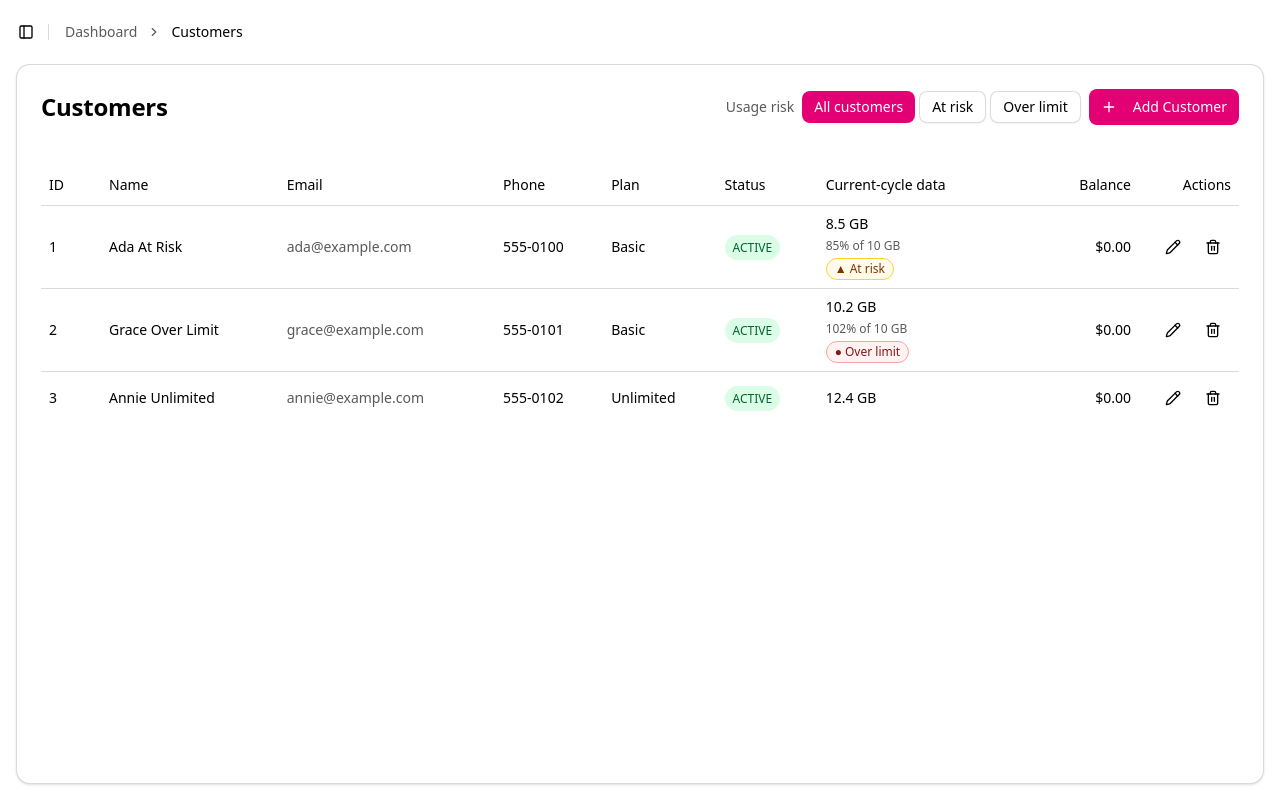
Test: CustomersPage usage-risk filter › filters by the semantic API state and restores all rows
Expected: the text "Ada At Risk" is shown, [101,205,279,288]
Expected: the text "Grace Over Limit" is shown, [101,288,279,371]
Click the button "Over limit": (1035, 107) [990,91,1081,123]
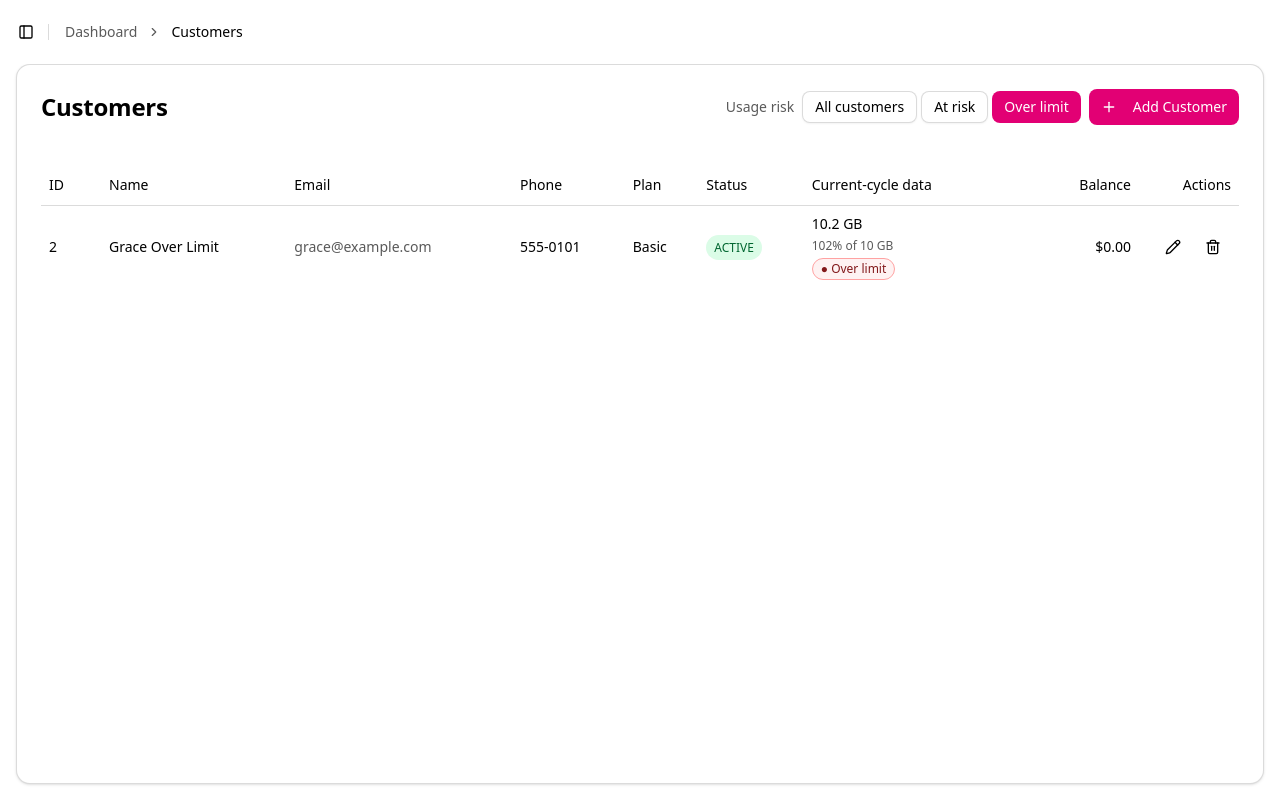
Expected: the text "Grace Over Limit" is shown, [101,205,286,288]
Now the text "Ada At Risk" is gone
Now the text "Annie Unlimited" is gone
Click the button "At risk": (955, 107) [921,91,988,123]
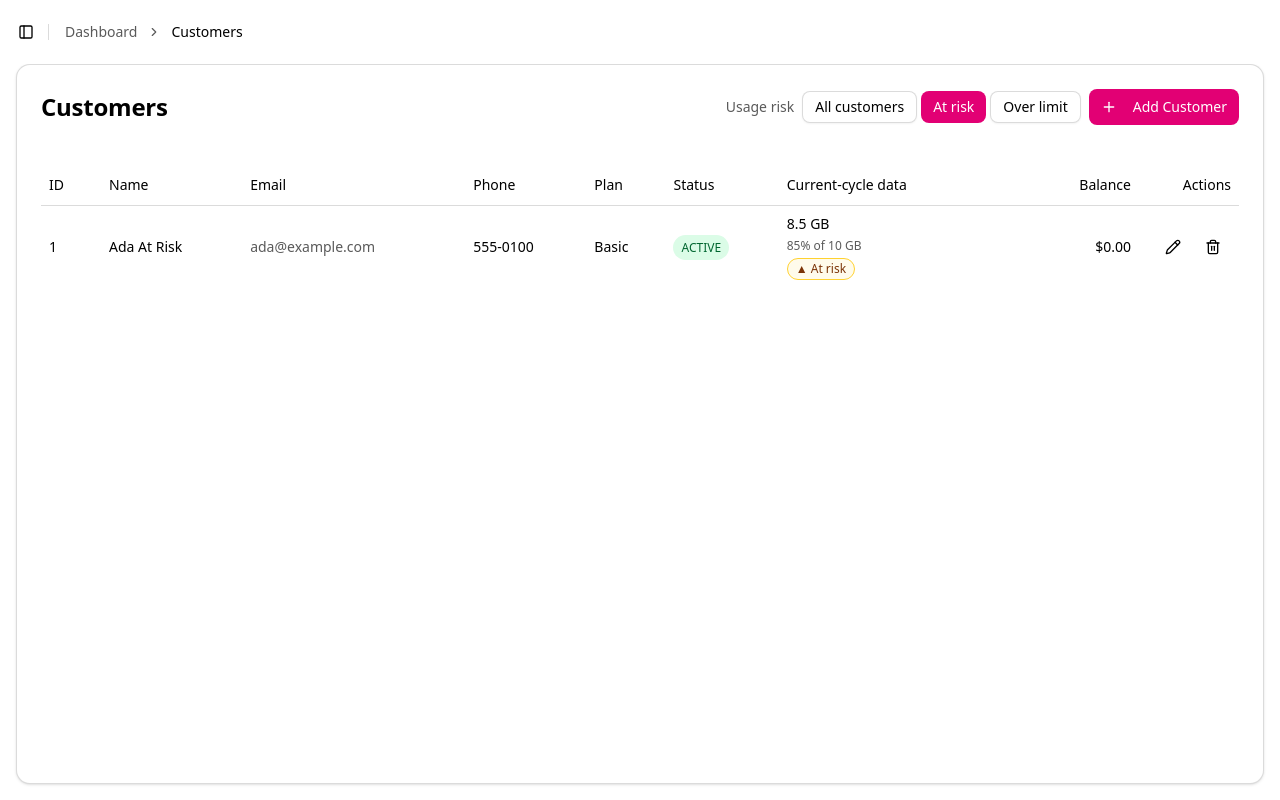
Now the text "Ada At Risk" is shown, box [101,205,242,288]
Now the text "Grace Over Limit" is gone
Click the button "All customers": (860, 107) [802,91,917,123]
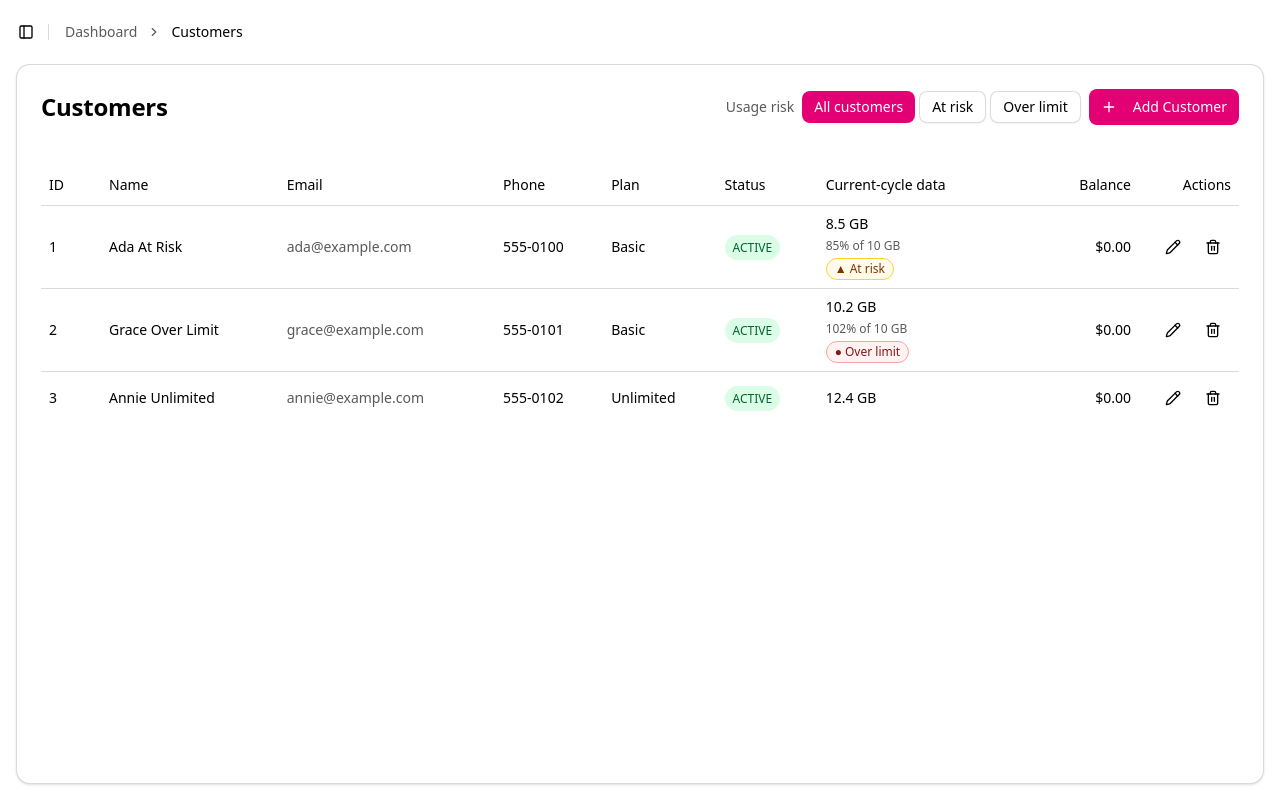
Now the text "Grace Over Limit" is shown, box [101,288,279,371]
Now the text "Annie Unlimited" is shown, box [101,371,279,424]
